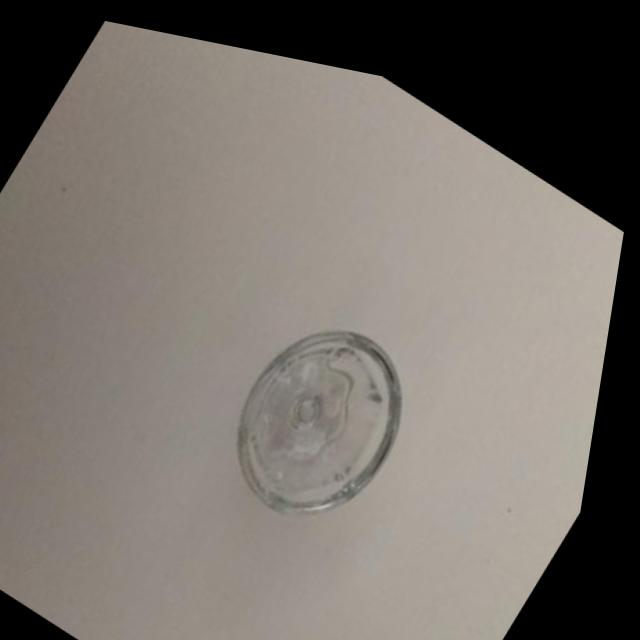glass: (157, 186, 499, 604)
